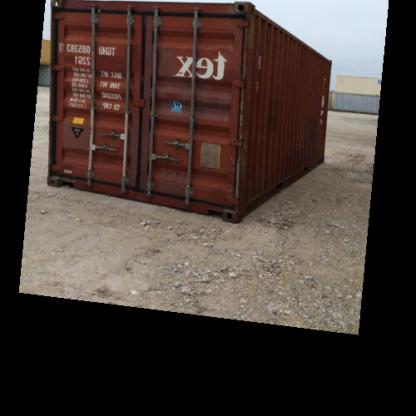Damage: (152, 160, 188, 204), (234, 56, 244, 198)
